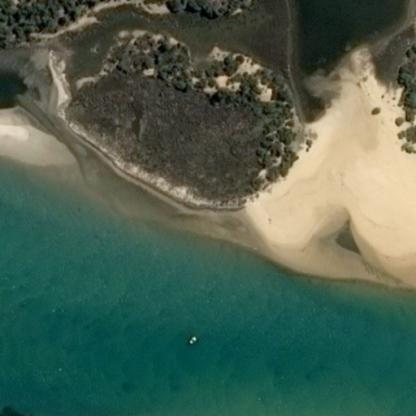ship: (22, 336, 29, 344)
